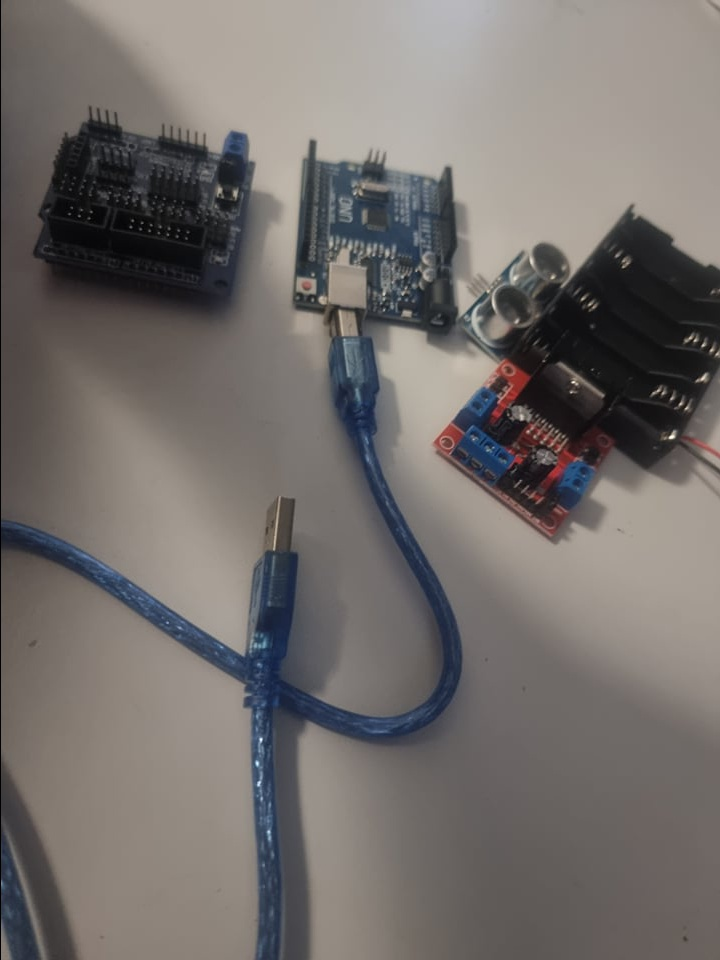5V EXPANSION: (30, 99, 254, 306)
MOTOR: (542, 199, 717, 466), (429, 345, 614, 539)
SENSOR: (462, 242, 578, 342)
UNO R3: (289, 134, 471, 324)
